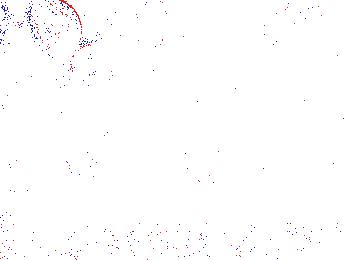moon jellyfish: (92, 1, 169, 76), (265, 2, 326, 71), (297, 1, 346, 74), (57, 42, 117, 99), (29, 1, 83, 61), (1, 45, 33, 102)
